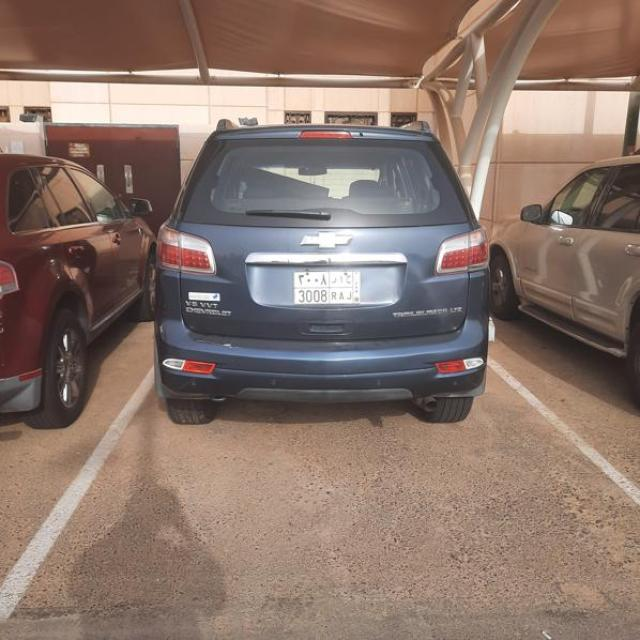license_plate: (293, 271, 360, 304)
